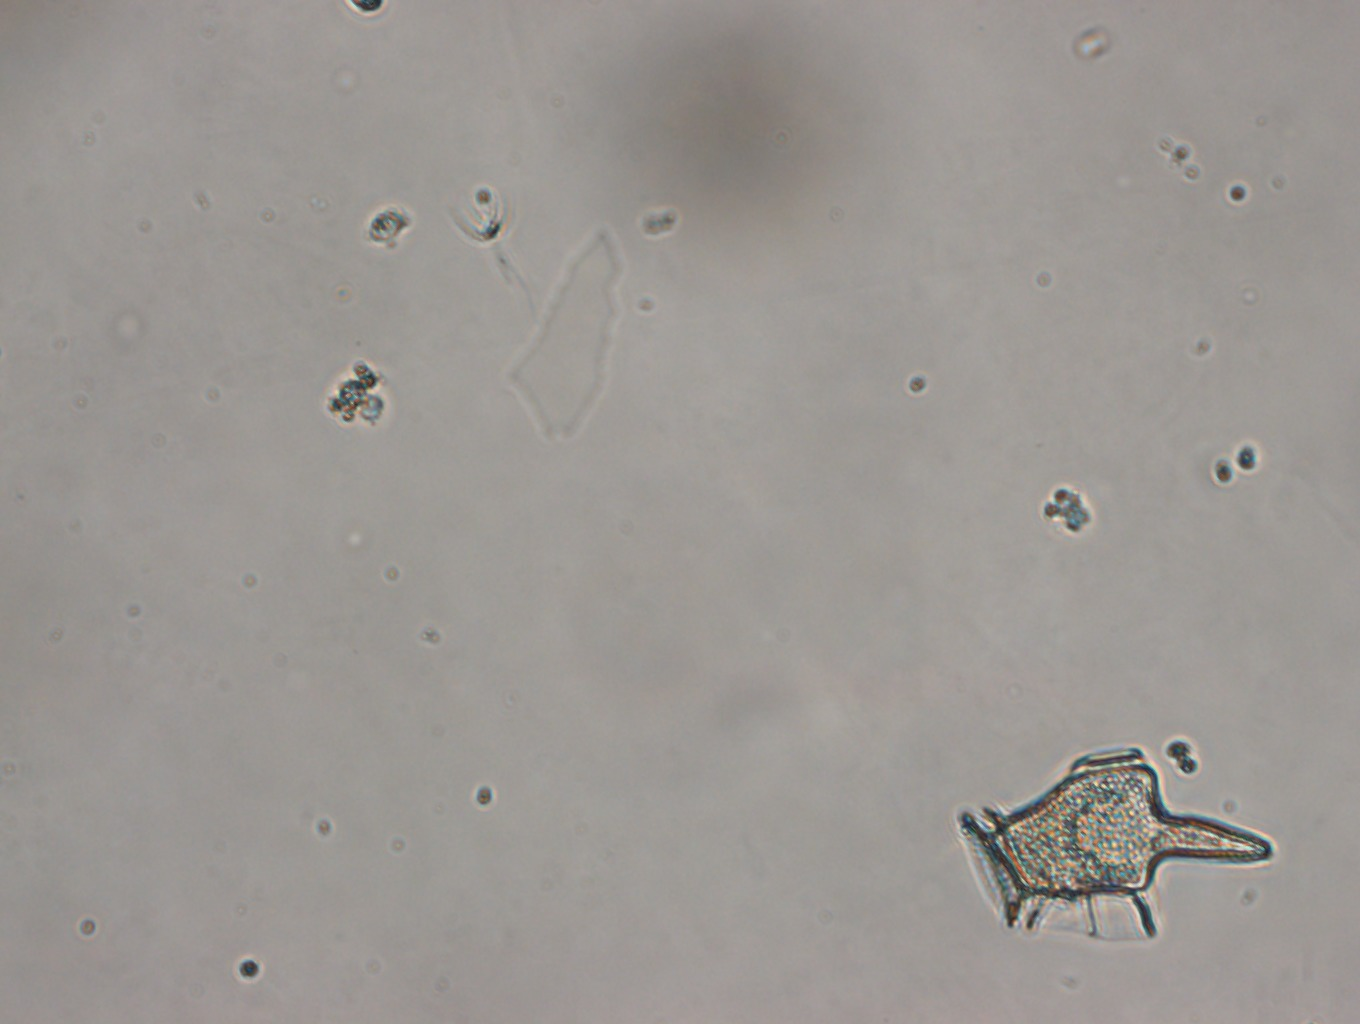dinophysis caudata: (955, 740, 1280, 951)
